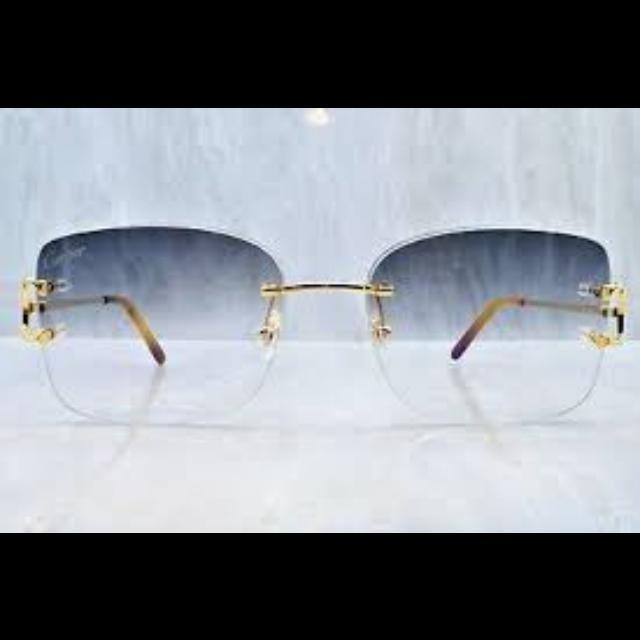sunglasses: (18, 200, 640, 434)
